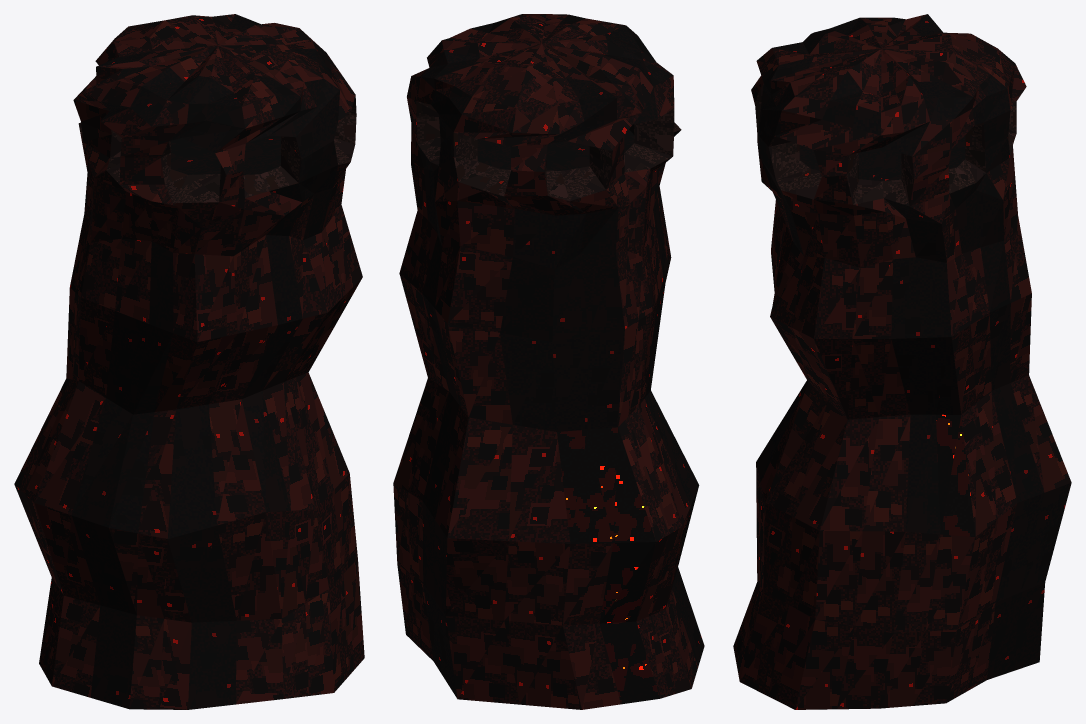
The model's file is tower2.glb.
The picture shows the model from 3 angles, left to right: view 1: azimuth 30°, elevation 25°; view 2: azimuth 150°, elevation 25°; view 3: azimuth 270°, elevation 25°; orthographic projection.
Visible parts, largest first — view 1: Tower2Rock; view 2: Tower2Rock; view 3: Tower2Rock.
Boxes of the visible parts, box(x1,y1,x2,y2) form: Tower2Rock: box(14, 14, 364, 709); Tower2Rock: box(393, 14, 704, 709); Tower2Rock: box(733, 14, 1071, 709).
Size of what is drawn, in the model's own units: 21.85 by 45.19 by 22.48.
1 material, 1 textured.
